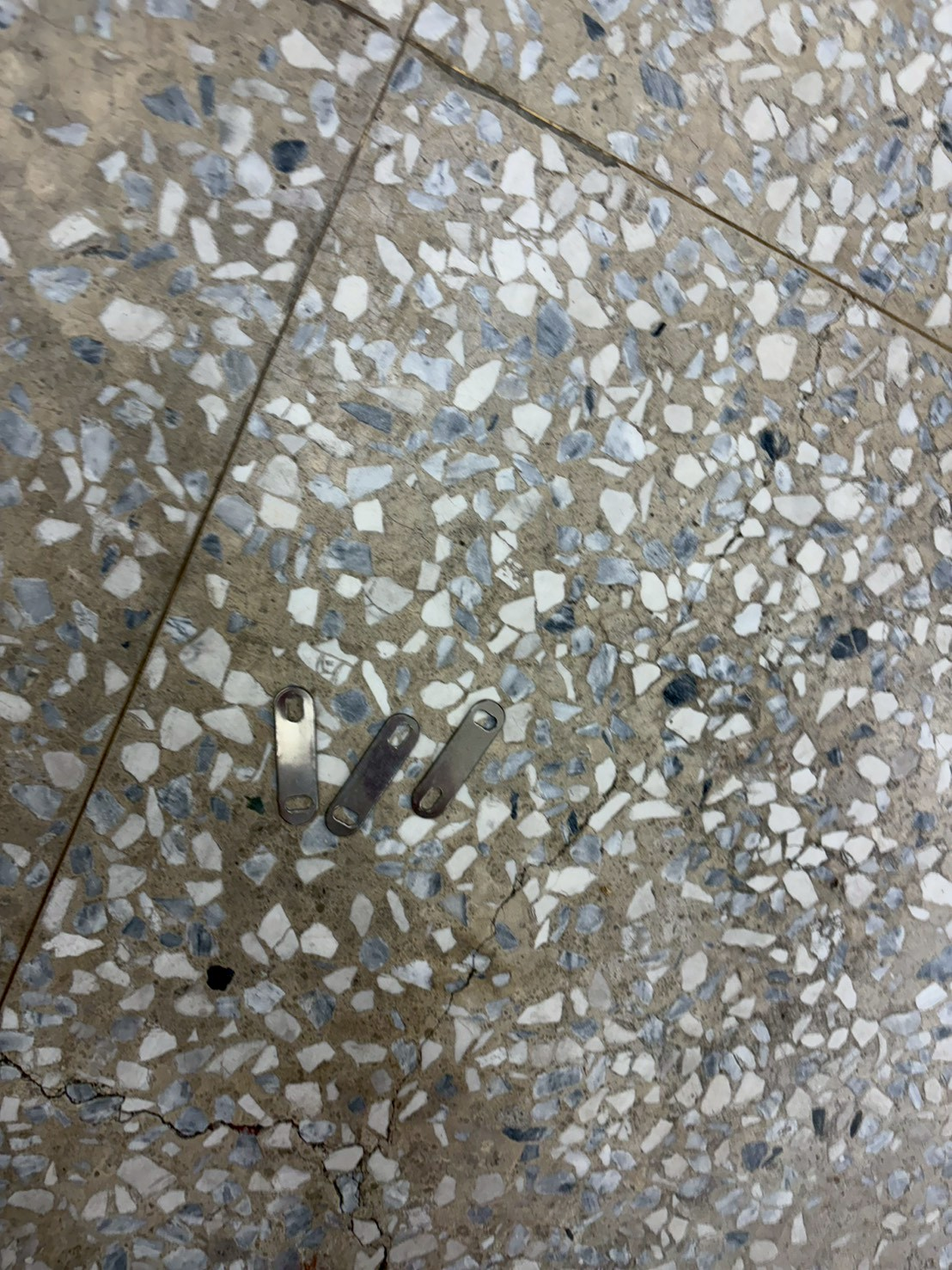Fe: (478, 681, 526, 828), (267, 682, 315, 829), (386, 703, 434, 850)
